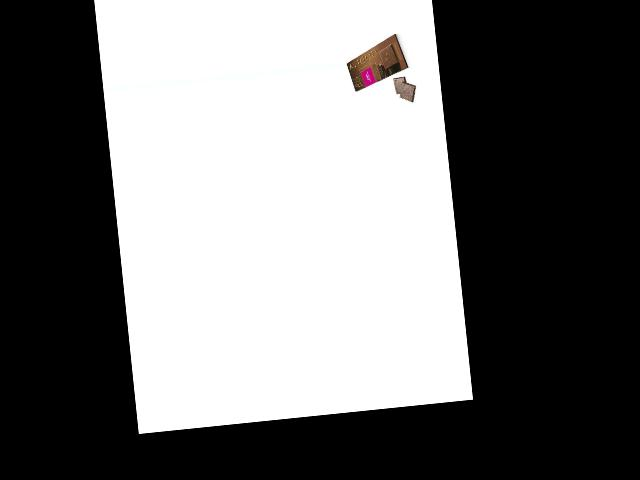chocolate: (343, 32, 411, 93)
